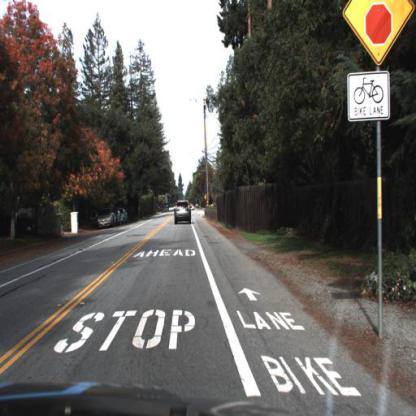car: (172, 200, 194, 231), (95, 207, 117, 231)
